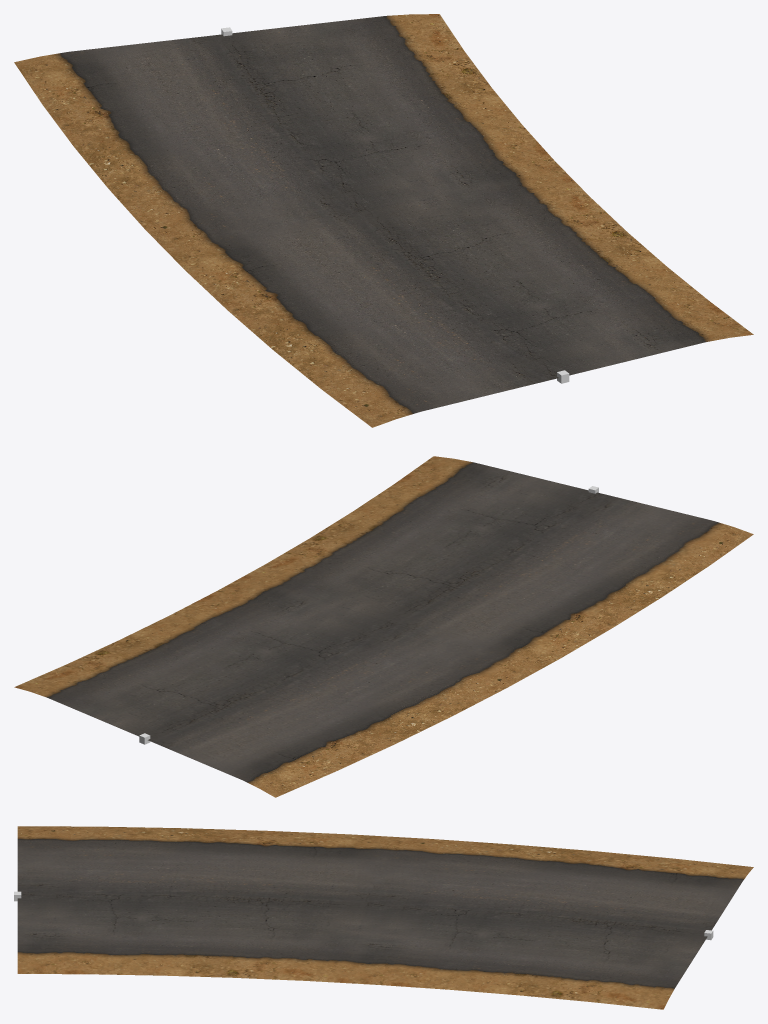
File: roadBend15.R.fbx
3 renders of one model, top to bottom at view 1: azimuth 30°, elevation 25°; view 2: azimuth 150°, elevation 25°; view 3: azimuth 270°, elevation 25°, orthographic. The views are drawn at different scales.
Visible parts, largest first — view 1: MESH roadBend15.R; view 2: MESH roadBend15.R; view 3: MESH roadBend15.R.
Part boxes in pixels (x1=…): MESH roadBend15.R: x1=14, y1=14, x2=753, y2=427; MESH roadBend15.R: x1=14, y1=456, x2=753, y2=797; MESH roadBend15.R: x1=17, y1=826, x2=753, y2=1009.
Size of what is drawn, in the model's own units: 2984 by 50.77 by 5081.
